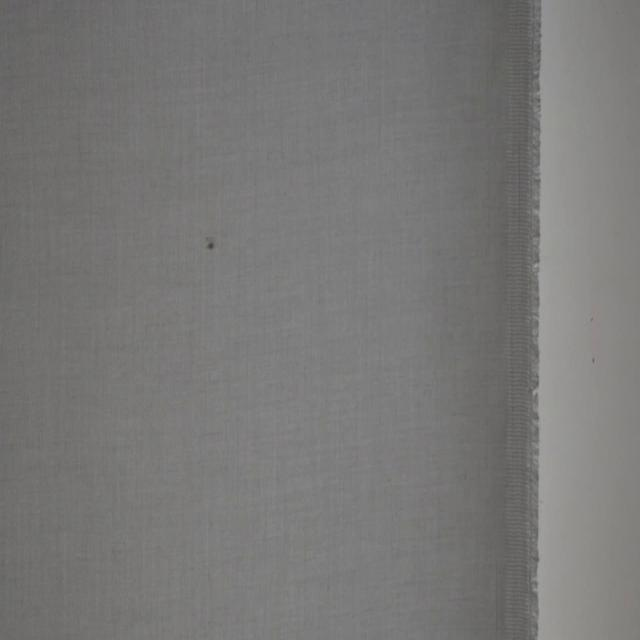dirty: (206, 232, 218, 253)
